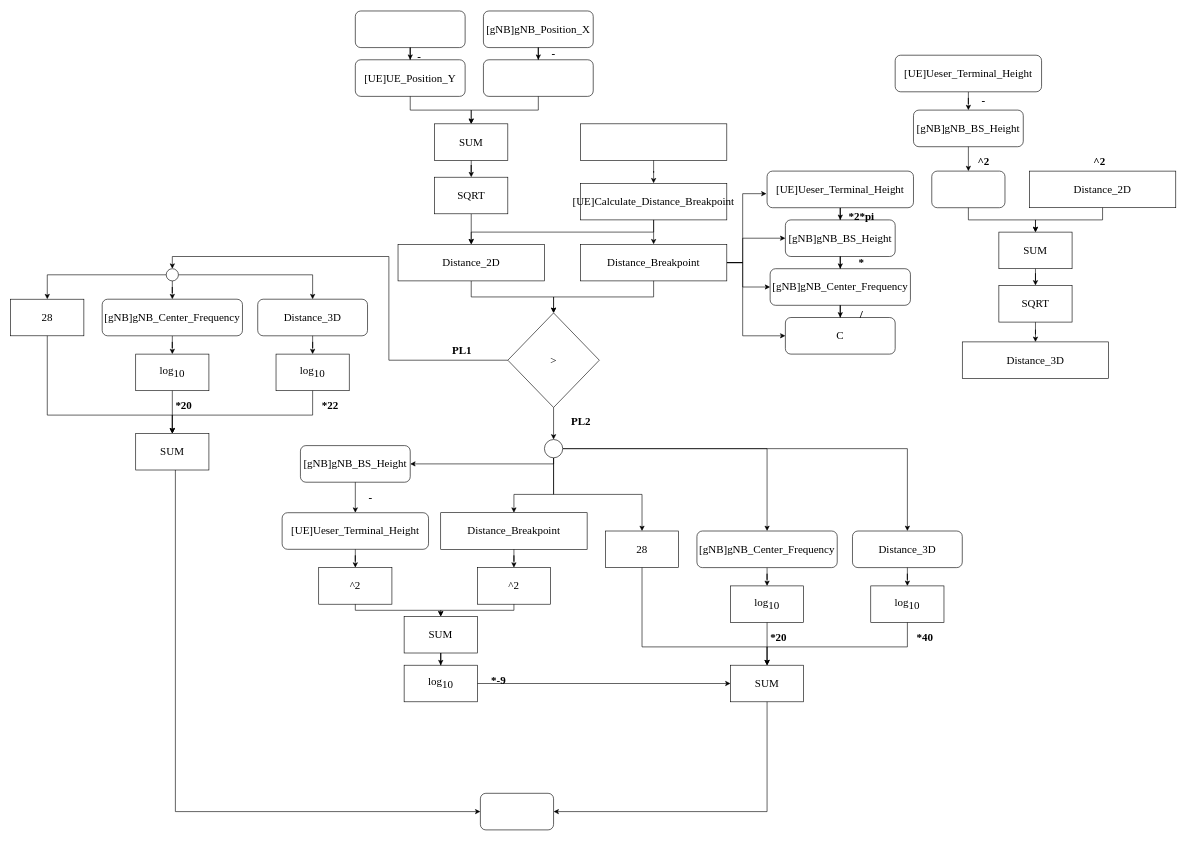
This 1186x841 diagram has some shape labels left out. The centre of each missing label's shape, as x and y in pixels:
"[gNB]gNB_Position_Y" goes at point 410,29.
"[UE]Model_Distinguish" goes at point 653,141.
"[UE]UE_Position_X" goes at point 538,77.
"Delta_Height" goes at point 968,189.
"Pathloss" goes at point 517,811.
